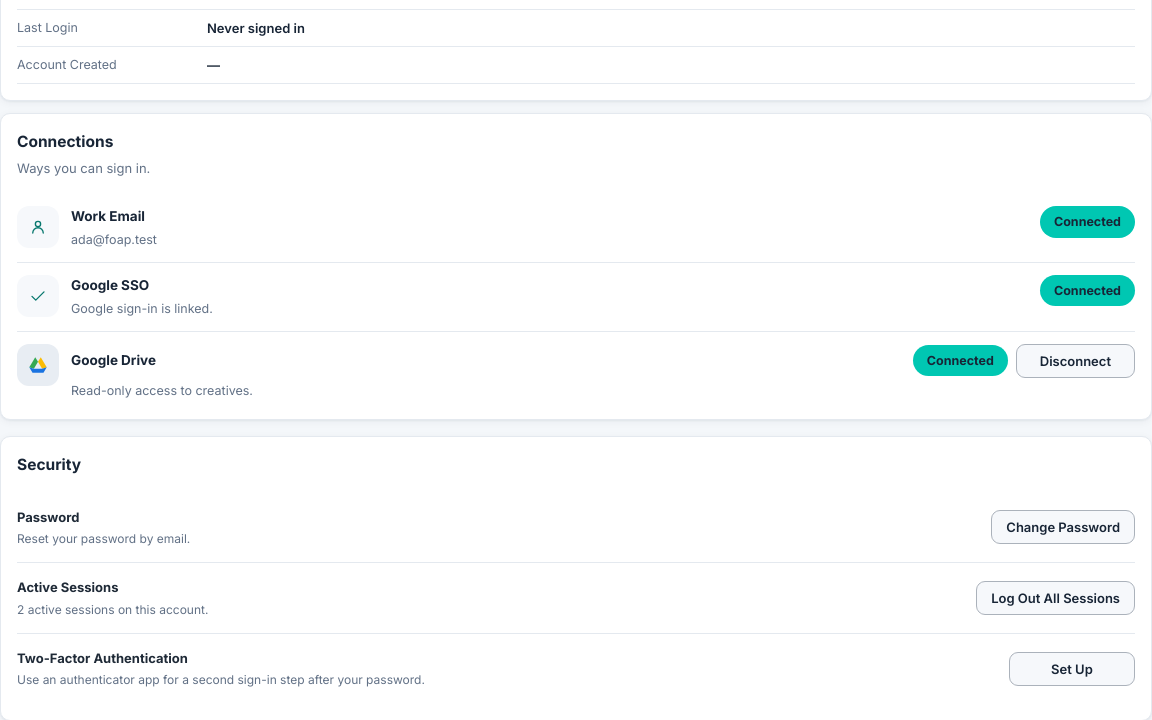
Test: SettingsPage › shows disconnect when Google Drive is connected
The image size is (1152, 720).
(page scrolled)
Check: the heading "Connections" is shown, box left=17, top=132, right=113, bottom=151
Check: the text "Connected" in the row of "Google Drive" is shown, box left=927, top=353, right=994, bottom=368
Click the button "Disconnect".
click(1075, 361)  # box left=1016, top=344, right=1135, bottom=378
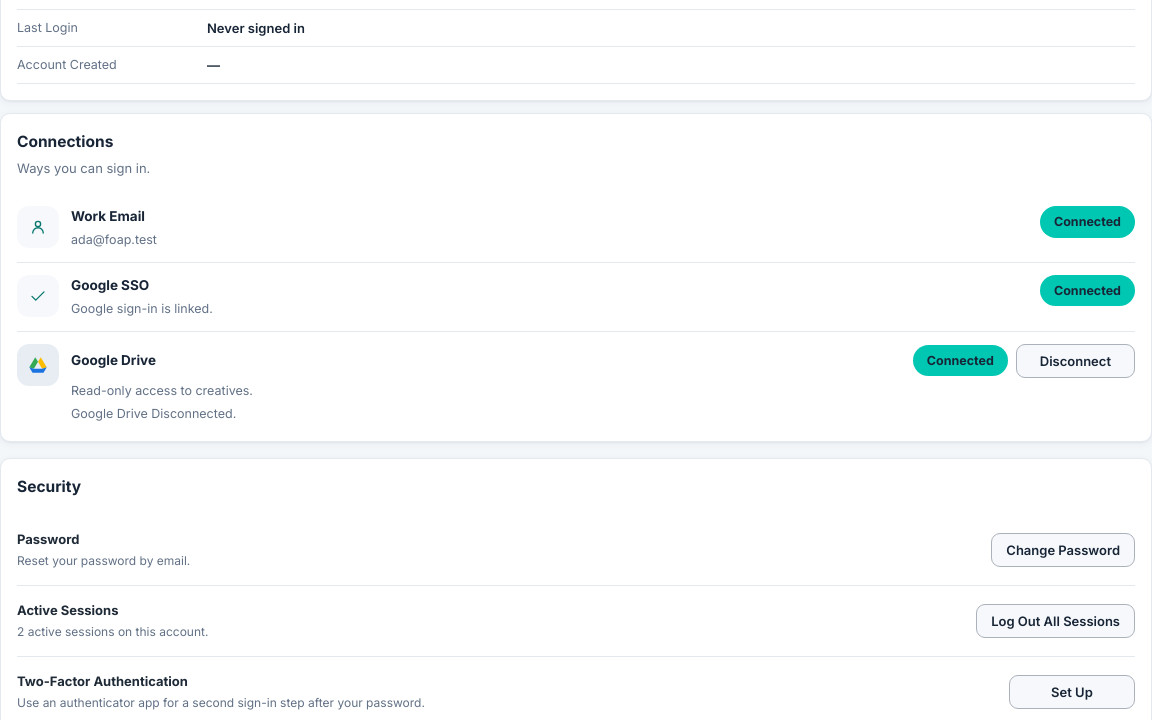
Check: the text "Google Drive Disconnected." is shown, box left=71, top=406, right=236, bottom=420
